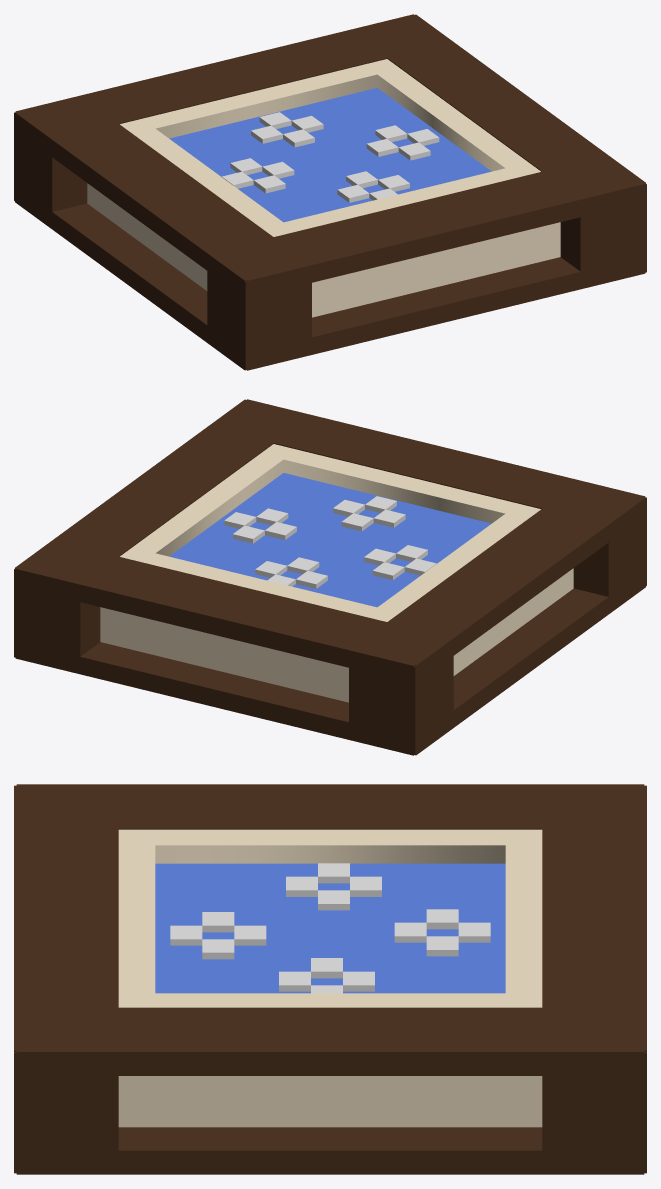
Rendered from detector-blue.fbx.
The picture shows the model from 3 angles, top to bottom: view 1: azimuth 30°, elevation 25°; view 2: azimuth 150°, elevation 25°; view 3: azimuth 270°, elevation 25°; orthographic projection. The views are drawn at different scales.
Parts seen in each view (by area): view 1: Cube.002, Cube.001, Cube; view 2: Cube.002, Cube.001, Cube; view 3: Cube.002, Cube.001, Cube.
Part boxes in pixels (x1=…): Cube.002: x1=14, y1=14, x2=646, y2=370; Cube.001: x1=87, y1=59, x2=560, y2=317; Cube: x1=222, y1=112, x2=439, y2=202; Cube.002: x1=14, y1=399, x2=646, y2=755; Cube.001: x1=100, y1=444, x2=573, y2=702; Cube: x1=224, y1=496, x2=436, y2=588; Cube.002: x1=14, y1=784, x2=646, y2=1174; Cube.001: x1=118, y1=829, x2=542, y2=1127; Cube: x1=170, y1=863, x2=490, y2=993.
Size of the model in its own units: 1.21 by 0.2589 by 1.21.
